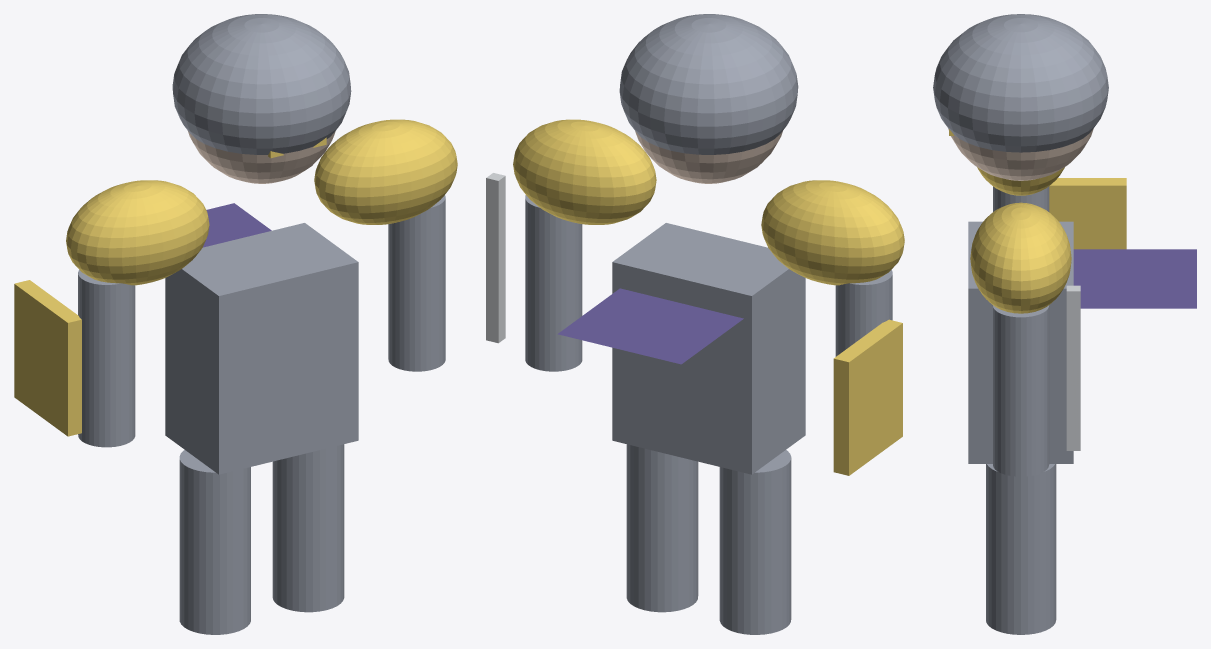
File: hero_knight.glb
The picture shows the model from 3 angles, left to right: view 1: azimuth 30°, elevation 25°; view 2: azimuth 150°, elevation 25°; view 3: azimuth 270°, elevation 25°; orthographic projection.
Visible parts, largest first — view 1: Knight_Body, Knight_Helmet, Knight_Leg_L, Knight_Shoulder_R, Knight_Shoulder_L, Knight_Leg_R, Knight_Arm_L, Knight_Arm_R, Knight_Shield, Knight_Head, Knight_Cape; view 2: Knight_Body, Knight_Helmet, Knight_Leg_L, Knight_Shoulder_R, Knight_Shoulder_L, Knight_Leg_R, Knight_Shield, Knight_Arm_R, Knight_Cape, Knight_Sword, Knight_Arm_L, Knight_Head; view 3: Knight_Helmet, Knight_Leg_R, Knight_Arm_R, Knight_Shoulder_R, Knight_Body, Knight_Cape, Knight_Shield, Knight_Head, Knight_Sword, Knight_Shoulder_L, Knight_Arm_L.
Boxes of the visible parts, x1,y1,x2,y2 form: Knight_Body: [165, 223, 358, 474]; Knight_Helmet: [172, 14, 351, 154]; Knight_Leg_L: [179, 450, 250, 634]; Knight_Shoulder_R: [314, 119, 457, 224]; Knight_Shoulder_L: [66, 180, 209, 285]; Knight_Leg_R: [272, 444, 344, 612]; Knight_Arm_L: [78, 269, 135, 447]; Knight_Arm_R: [388, 195, 445, 371]; Knight_Shield: [14, 280, 81, 436]; Knight_Head: [188, 131, 335, 183]; Knight_Cape: [203, 203, 271, 247]; Knight_Body: [612, 223, 805, 474]; Knight_Helmet: [619, 14, 798, 154]; Knight_Leg_L: [719, 450, 791, 634]; Knight_Shoulder_R: [513, 119, 656, 224]; Knight_Shoulder_L: [761, 180, 904, 285]; Knight_Leg_R: [626, 444, 698, 612]; Knight_Shield: [833, 319, 902, 475]; Knight_Arm_R: [525, 195, 582, 371]; Knight_Cape: [557, 288, 743, 364]; Knight_Sword: [486, 173, 505, 343]; Knight_Arm_L: [835, 270, 892, 356]; Knight_Head: [635, 131, 782, 183]; Knight_Helmet: [933, 14, 1108, 152]; Knight_Leg_R: [986, 464, 1056, 634]; Knight_Arm_R: [993, 305, 1049, 476]; Knight_Shoulder_R: [970, 202, 1071, 313]; Knight_Body: [968, 221, 1073, 463]; Knight_Cape: [1073, 249, 1196, 308]; Knight_Shield: [1049, 178, 1126, 249]; Knight_Head: [948, 128, 1093, 180]; Knight_Sword: [1066, 285, 1080, 450]; Knight_Shoulder_L: [977, 167, 1064, 195]; Knight_Arm_L: [993, 186, 1049, 211].
Bounding box in the file's own units: 1.25 × 1.8 × 0.75.
